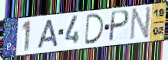1: (21, 19, 32, 53)
4: (64, 14, 83, 48)
A: (35, 18, 59, 50)
D: (84, 13, 105, 46)
N: (128, 5, 153, 42)
P: (107, 10, 130, 44)
